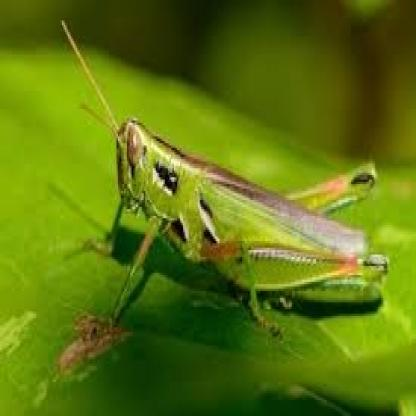grasshopper: (53, 33, 397, 343)
